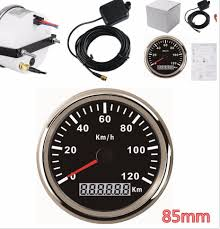Digital_Meter: (74, 182, 132, 197)
